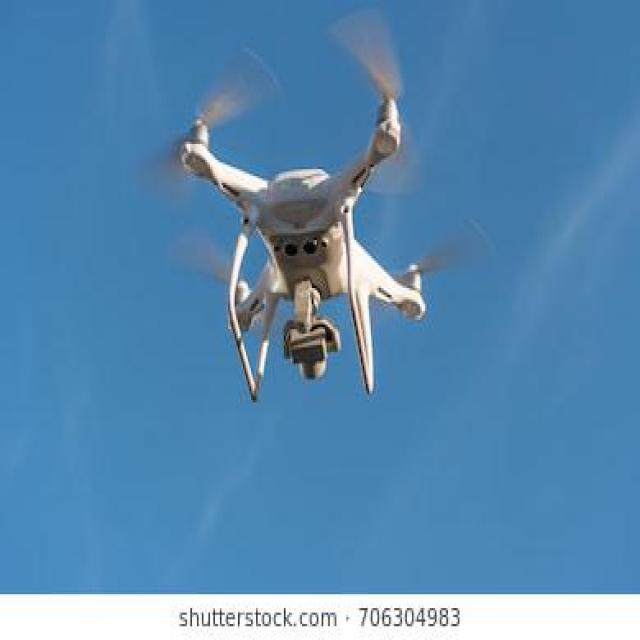drone: (154, 7, 474, 416)
